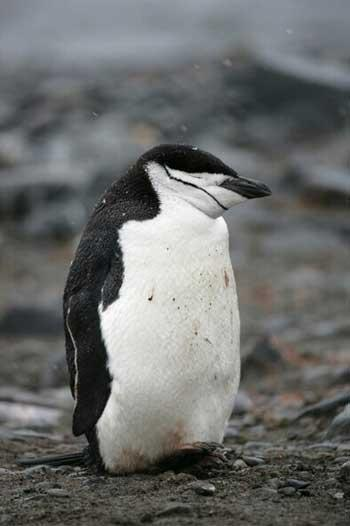Penguin: (66, 146, 270, 473)
